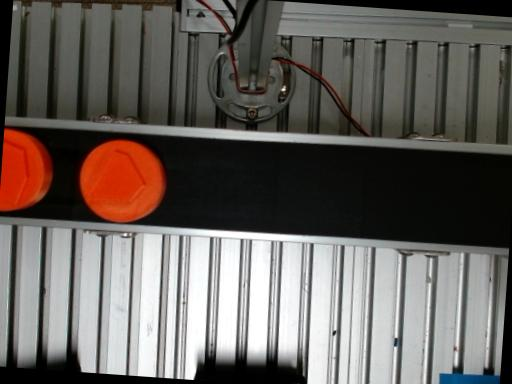Not_Square: (85, 150, 147, 205)
Orange_Waper: (79, 140, 166, 223), (0, 129, 53, 211)
